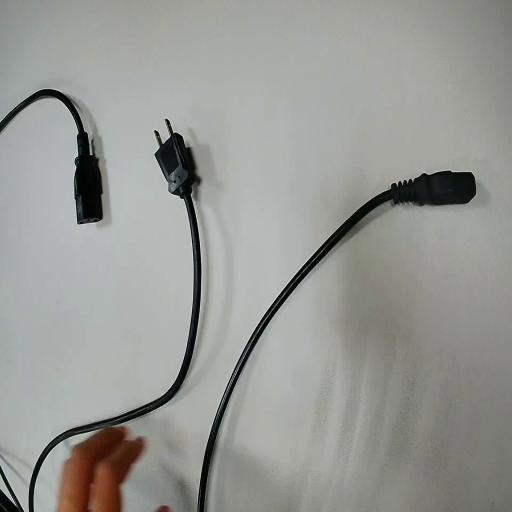wire: (198, 172, 475, 511), (30, 127, 199, 511), (0, 90, 101, 222)
